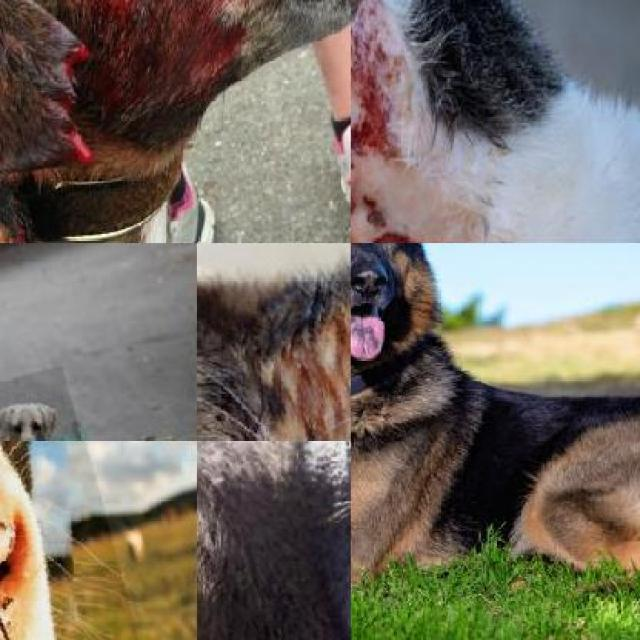cat: (351, 0, 640, 243), (197, 440, 351, 640), (197, 243, 351, 440)
cow: (0, 440, 178, 640)
dog: (351, 243, 640, 606), (0, 0, 351, 243), (0, 365, 117, 440)
injured: (0, 0, 186, 208), (351, 0, 415, 163), (375, 215, 428, 243)
